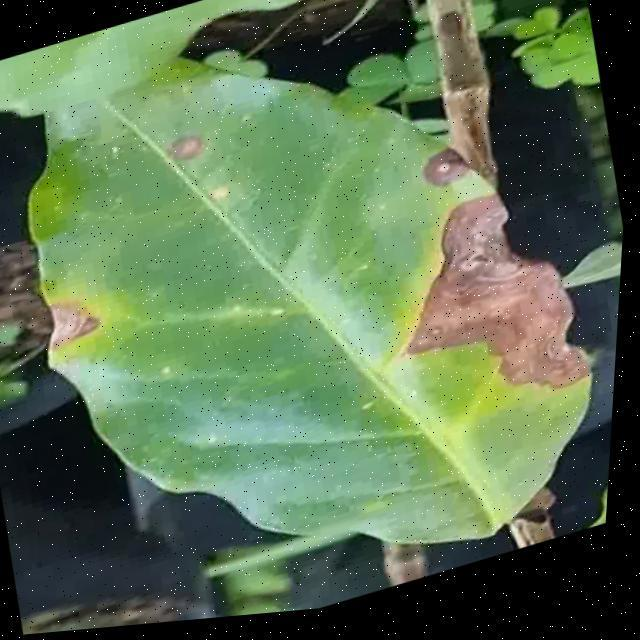leaves: (0, 0, 640, 627)
